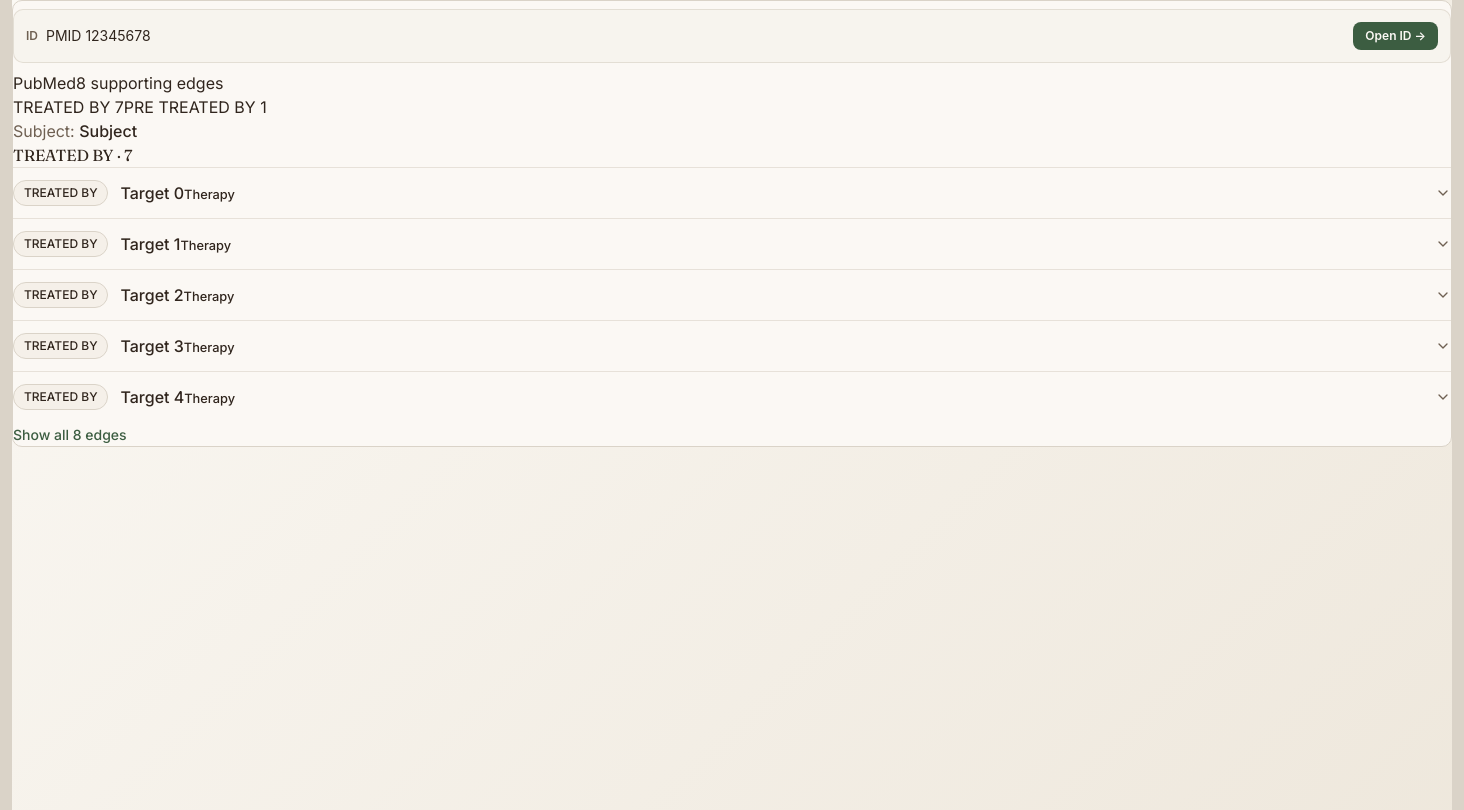
it: retains expanded properties and nested technical state when collapsing and showing fewer rows
The image size is (1464, 810).
Click the button "Show all 8 edges" at (70, 435), box x1=13 y1=425 x2=127 y2=445
(page scrolled)
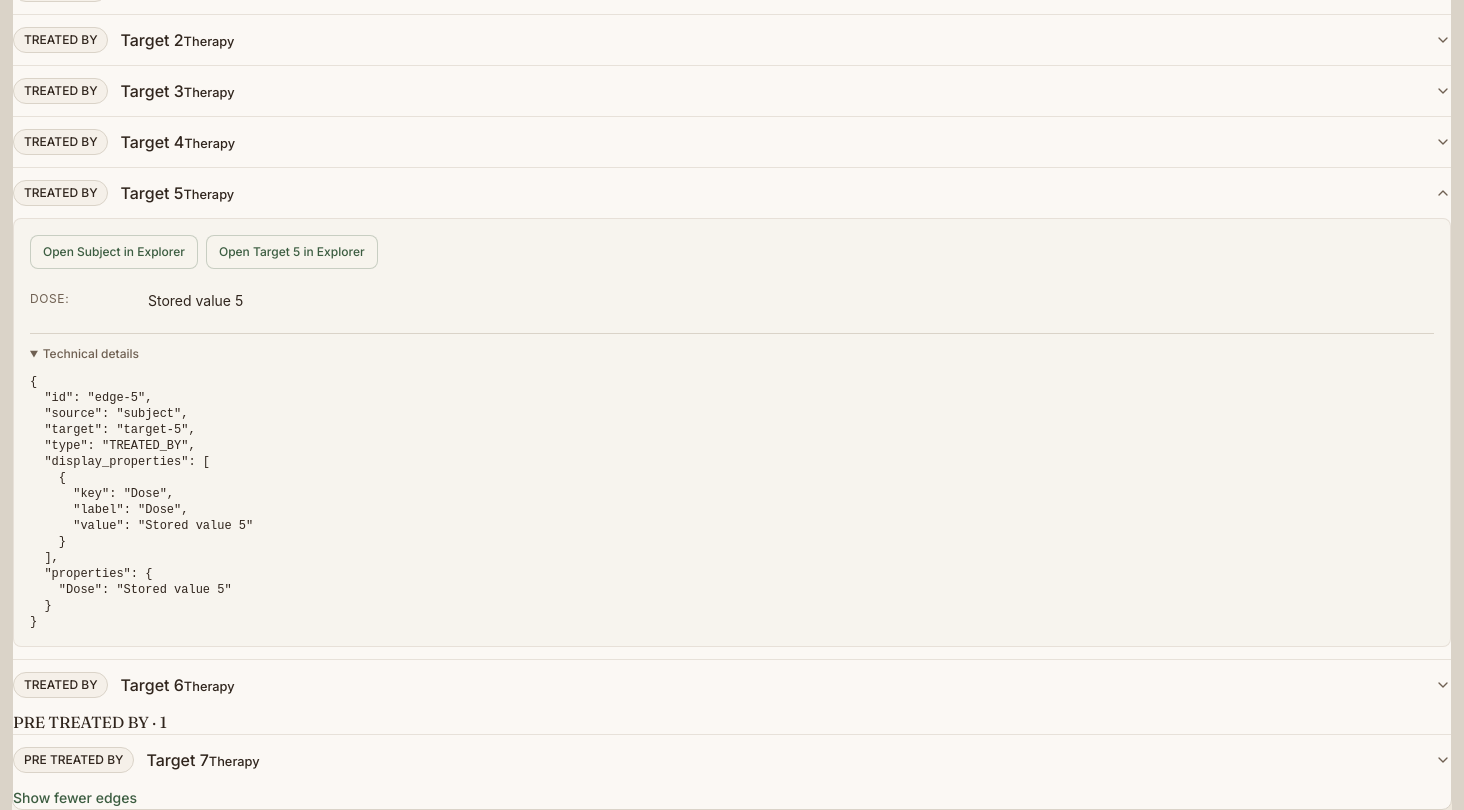
Click the button "Show fewer edges" at (75, 798), box x1=13 y1=788 x2=137 y2=808
(page scrolled)
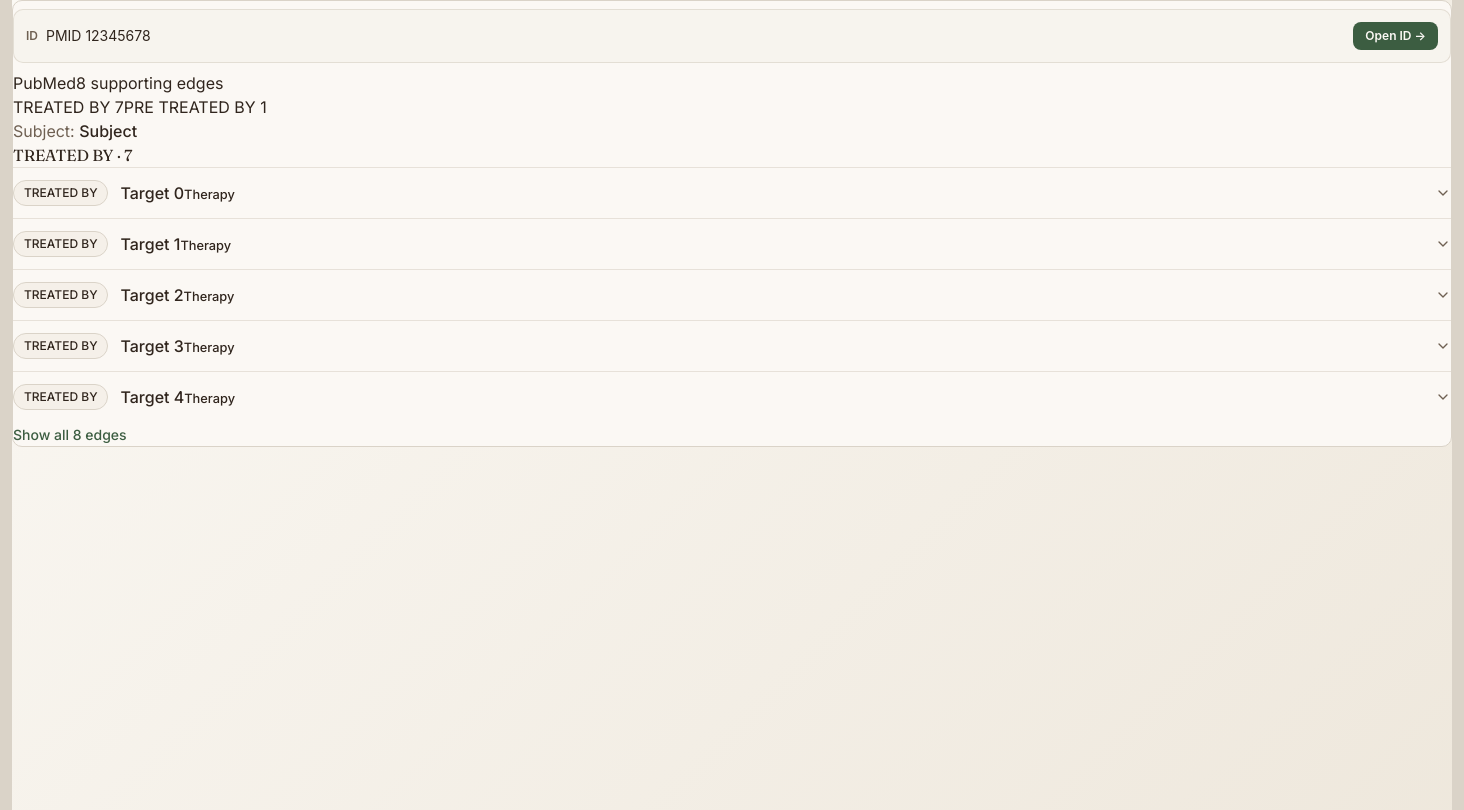
Click the button "Show all 8 edges" at (70, 435), box x1=13 y1=425 x2=127 y2=445
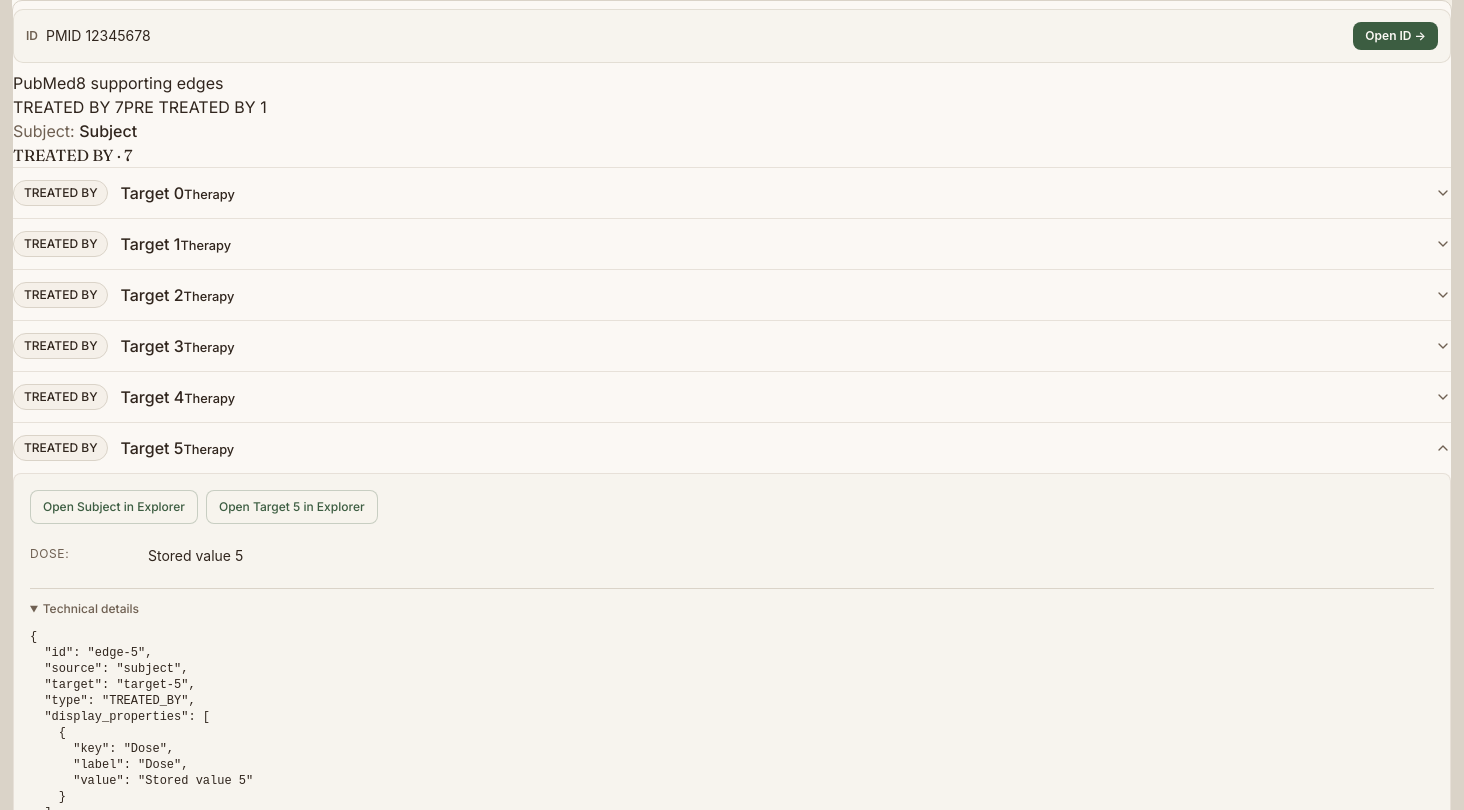
Expected: the text "Stored value 5" is shown, x1=148 y1=547 x2=243 y2=564
